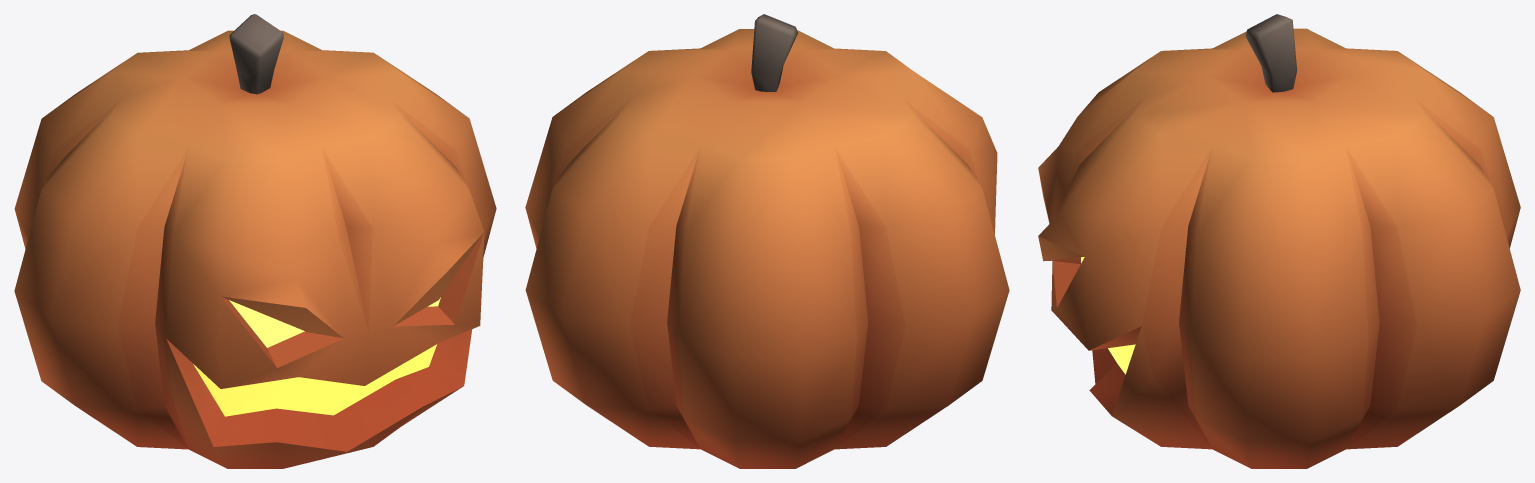
File: jackolantern_orange.glb
3 views of the same model, side by side, from view 1: azimuth 30°, elevation 25°; view 2: azimuth 150°, elevation 25°; view 3: azimuth 270°, elevation 25° (orthographic).
Visible parts, largest first — view 1: pumpkin_yellow_jackolantern; view 2: pumpkin_yellow_jackolantern; view 3: pumpkin_yellow_jackolantern.
Part boxes in pixels (x1,y1,x2,y2): pumpkin_yellow_jackolantern: [14, 14, 496, 468]; pumpkin_yellow_jackolantern: [525, 14, 1009, 468]; pumpkin_yellow_jackolantern: [1038, 14, 1520, 468].
Size of the model in its own units: 1.5 by 1.3 by 1.4.
2 materials, 1 textured.
